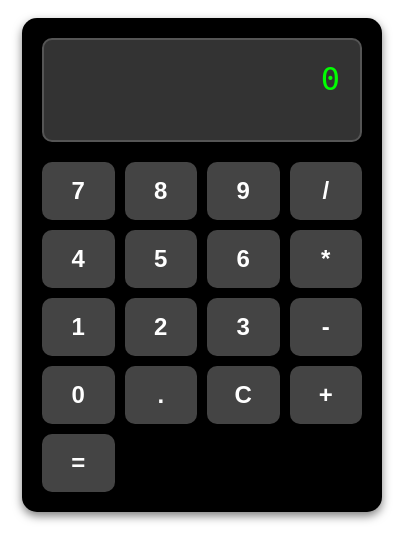
Test case: Calculates the result when = is pressed
What coordinates should you click on to do the following:
click the button "1"
I would click on:
 (78, 327)
Its box is [42,298,114,356].
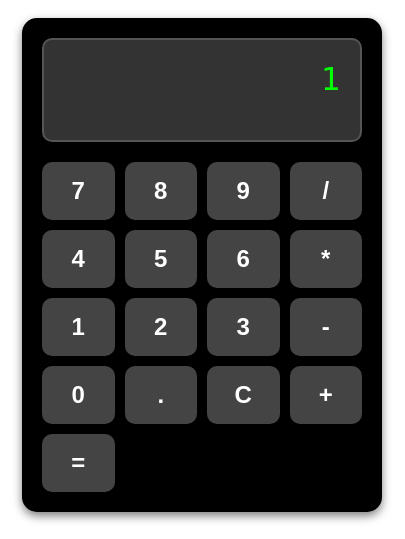
What coordinates should you click on to do the following:
click the button "+"
I would click on:
 (326, 395)
Its box is [290,366,362,424].
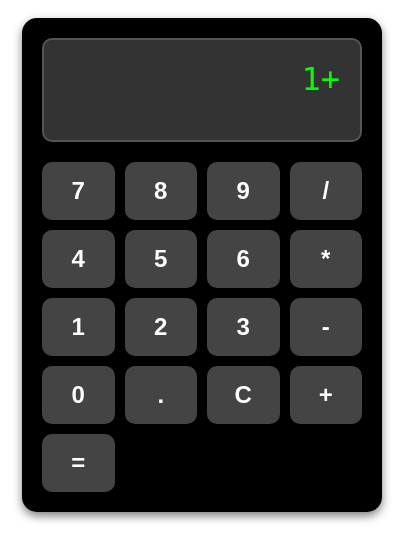
What coordinates should you click on to do the following:
click the button "2"
I would click on:
 (161, 327)
Its box is [124,298,197,356].
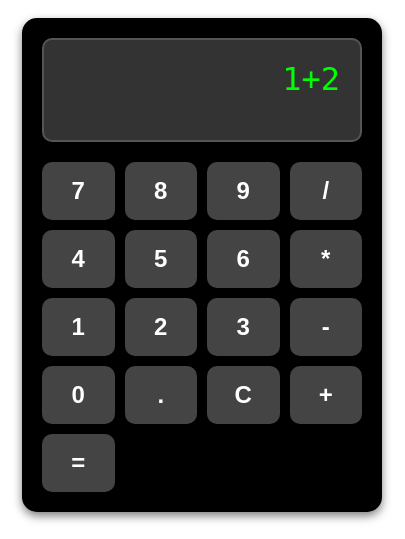
What coordinates should you click on to do the following:
click the button "="
I would click on:
 (78, 463)
Its box is [42,434,114,492].
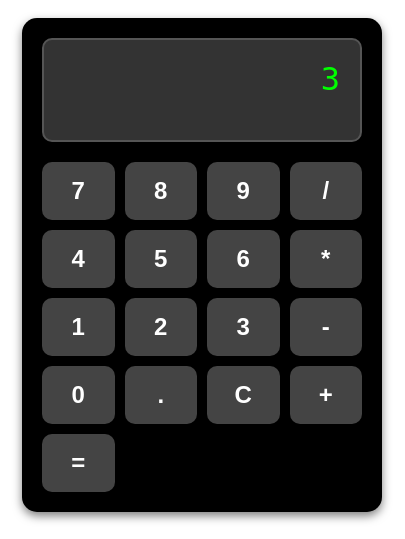
Result: the text with test id "total" reads "3" at [321,60,340,98]
